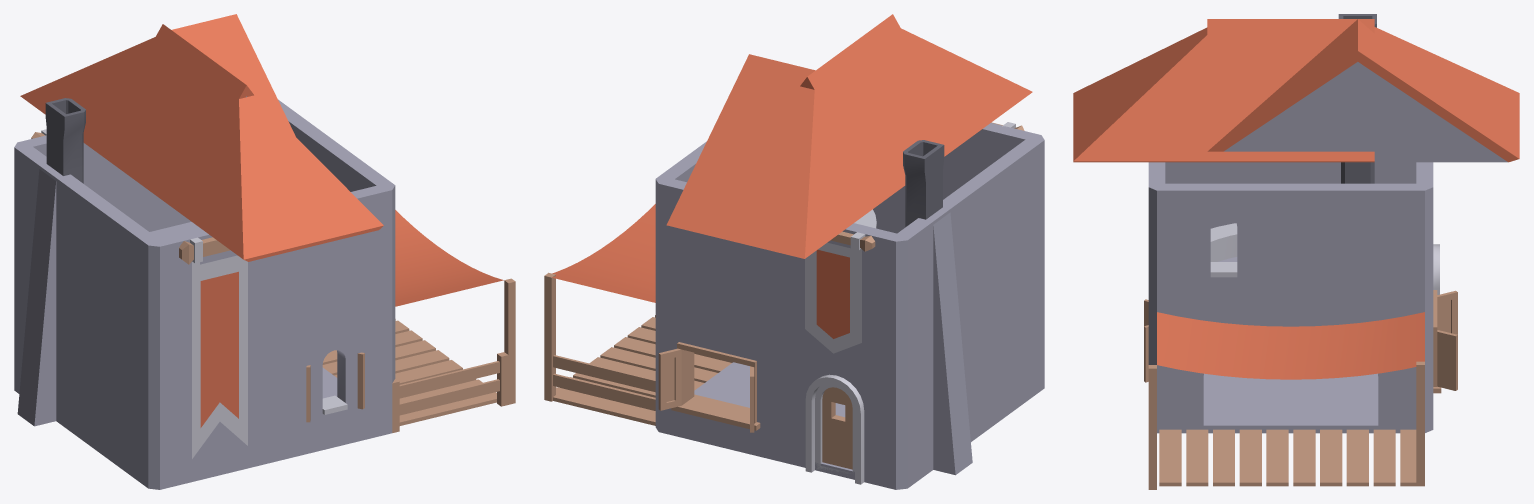
File: Workshop Garage.fbx
3 renders of one model, left to right at view 1: azimuth 30°, elevation 25°; view 2: azimuth 150°, elevation 25°; view 3: azimuth 270°, elevation 25°, orthographic. The views are drawn at different scales.
Parts seen in each view (by area): view 1: roof_end_26, roof_corner_25, wall_corner_15, wall_corner_18, wall_windowRound_37, wall_straight_19, detail_bannerPoints%_38, wall_corner_33, wall_edge_24, roof_canvas_20, wall_straight_16, fence_wood_27 (+9 smaller); view 2: roof_corner_25, roof_end_26, wall_corner_33, wall_doorwayRound_7, wall_corner_18, wall_corner_35, wall_windowWoodWide%_6, wall_corner_15, wall_edge_24, detail_bannerPoint%_23, roof_canvas_20, wall_straight_16 (+12 smaller); view 3: roof_corner_25, roof_end_26, wall_corner_35, wall_windowRound_34, roof_canvas_20, planks_floor_29, planks_floor_30, floor_square_3, floor_square_1, wall_archway_5, wall_archway_4, wall_corner_18 (+10 smaller).
Part boxes in pixels (x1=…): roof_end_26: x1=109, y1=24, x2=383, y2=261; roof_corner_25: x1=20, y1=14, x2=295, y2=210; wall_corner_15: x1=81, y1=318, x2=275, y2=489; wall_corner_18: x1=81, y1=191, x2=275, y2=368; wall_windowRound_37: x1=276, y1=312, x2=392, y2=460; wall_straight_19: x1=276, y1=184, x2=395, y2=339; detail_bannerPoints%_38: x1=179, y1=237, x2=247, y2=458; wall_corner_33: x1=14, y1=135, x2=141, y2=317; wall_edge_24: x1=17, y1=164, x2=60, y2=426; roof_canvas_20: x1=395, y1=210, x2=503, y2=306; wall_straight_16: x1=14, y1=269, x2=81, y2=438; fence_wood_27: x1=392, y1=352, x2=508, y2=432; roof_corner_25: x1=666, y1=14, x2=962, y2=258; roof_end_26: x1=800, y1=20, x2=1032, y2=203; wall_corner_33: x1=777, y1=185, x2=976, y2=365; wall_doorwayRound_7: x1=777, y1=337, x2=907, y2=489; wall_corner_18: x1=943, y1=123, x2=1044, y2=313; wall_corner_35: x1=655, y1=141, x2=777, y2=336; wall_windowWoodWide%_6: x1=658, y1=308, x2=777, y2=460; wall_corner_15: x1=976, y1=264, x2=1044, y2=437; wall_edge_24: x1=926, y1=209, x2=972, y2=475; detail_bannerPoint%_23: x1=805, y1=231, x2=875, y2=353; roof_canvas_20: x1=552, y1=204, x2=655, y2=302; wall_straight_16: x1=907, y1=314, x2=976, y2=486; roof_corner_25: x1=1207, y1=19, x2=1519, y2=162; roof_end_26: x1=1073, y1=19, x2=1374, y2=162; wall_corner_35: x1=1285, y1=162, x2=1433, y2=311; wall_windowRound_34: x1=1157, y1=183, x2=1297, y2=311; roof_canvas_20: x1=1157, y1=312, x2=1424, y2=379; planks_floor_29: x1=1159, y1=429, x2=1288, y2=486; planks_floor_30: x1=1293, y1=429, x2=1420, y2=486; floor_square_3: x1=1282, y1=373, x2=1433, y2=433; floor_square_1: x1=1157, y1=373, x2=1299, y2=433; wall_archway_5: x1=1291, y1=309, x2=1433, y2=433; wall_archway_4: x1=1148, y1=309, x2=1290, y2=433; wall_corner_18: x1=1165, y1=162, x2=1290, y2=183.
Size of the model in its own units: 33.12 by 29.19 by 33.33.
